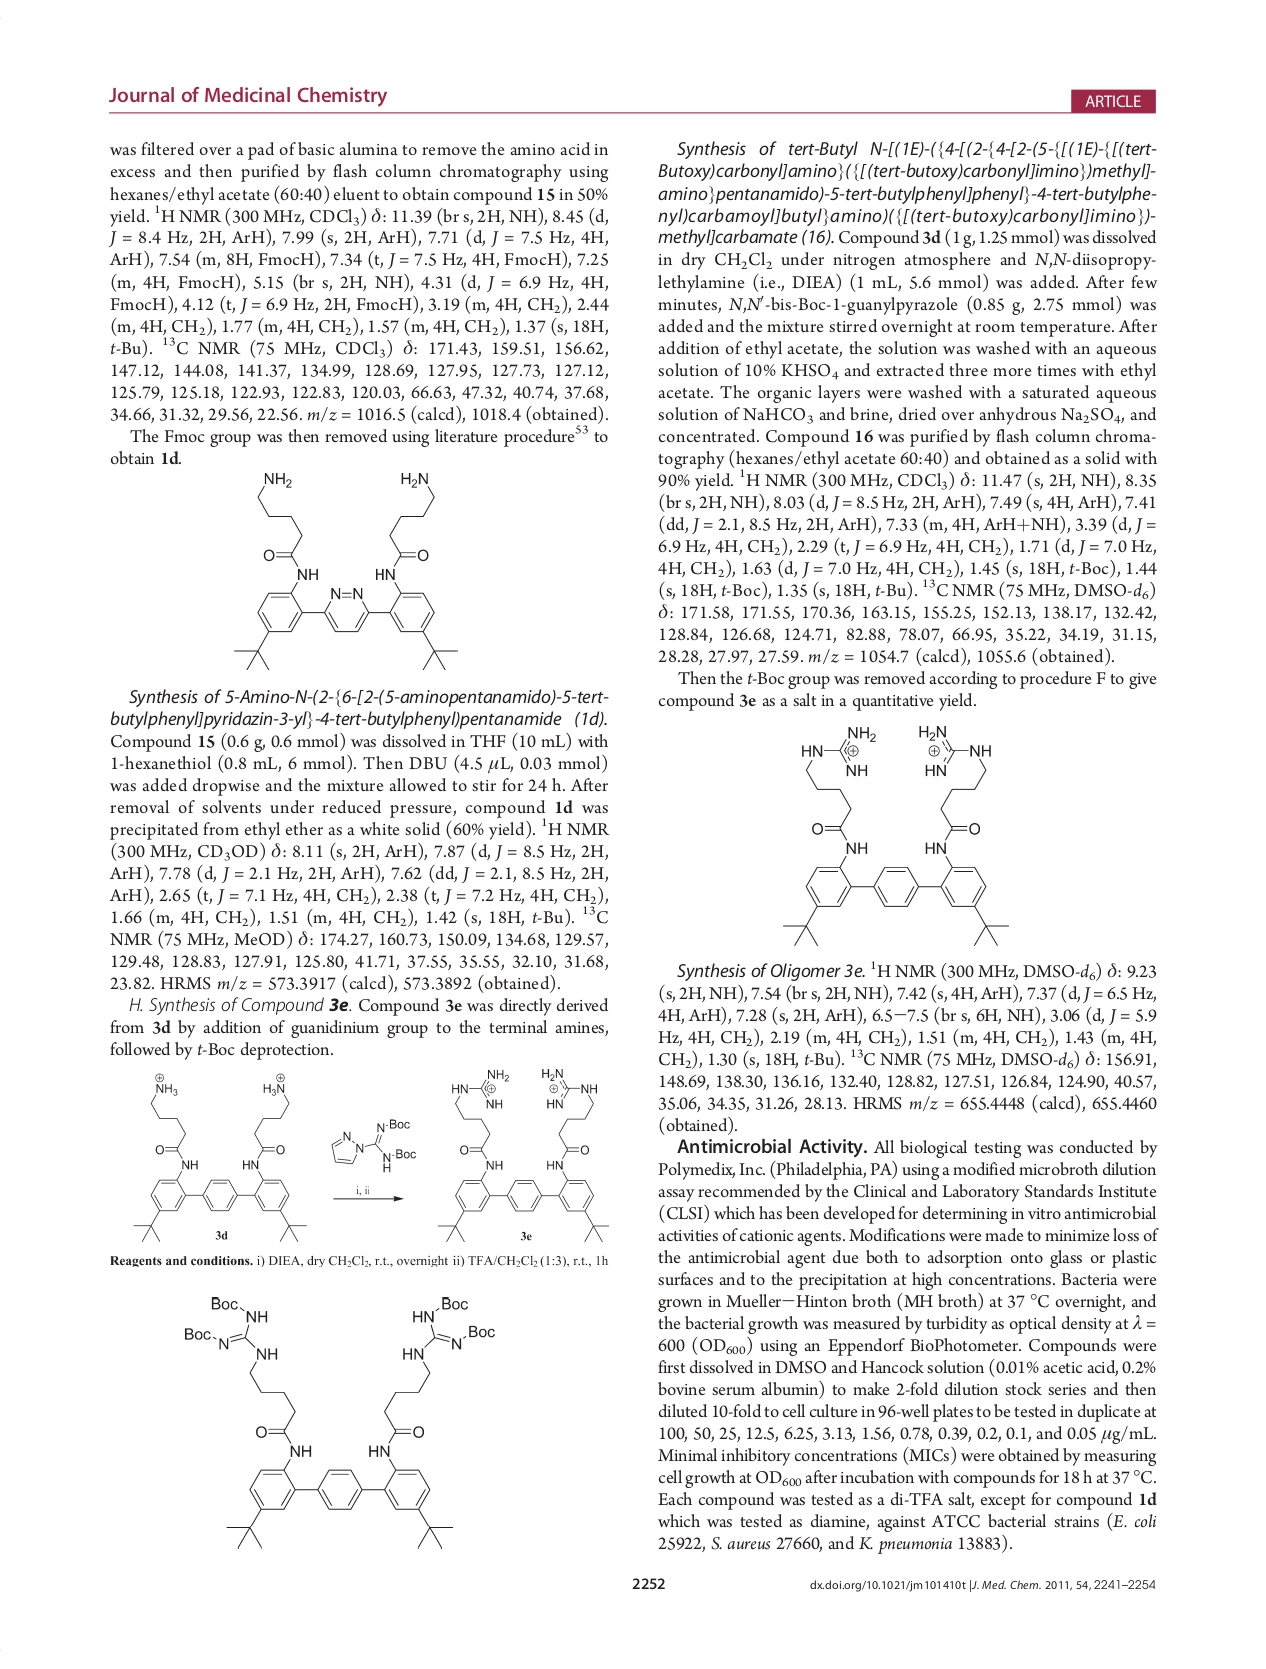exist_molecular: (177, 1295, 496, 1553), (781, 719, 1015, 951), (230, 467, 461, 673), (432, 1064, 610, 1245), (130, 1071, 309, 1245), (324, 1110, 418, 1176)
